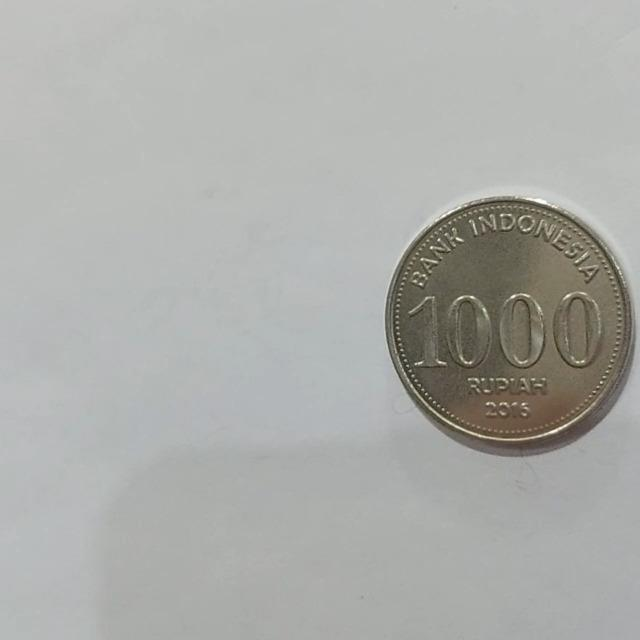Rp100: (382, 193, 636, 457)
